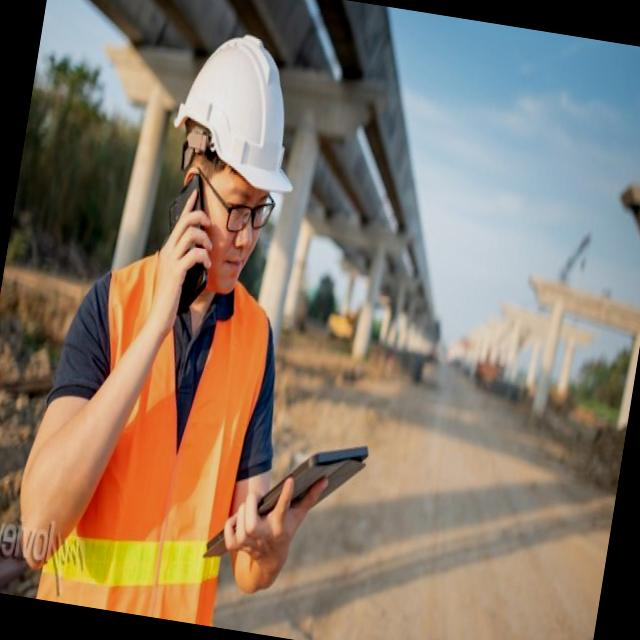goggles: (188, 176, 284, 247)
helmet: (158, 28, 318, 202)
vest: (25, 242, 284, 630)
